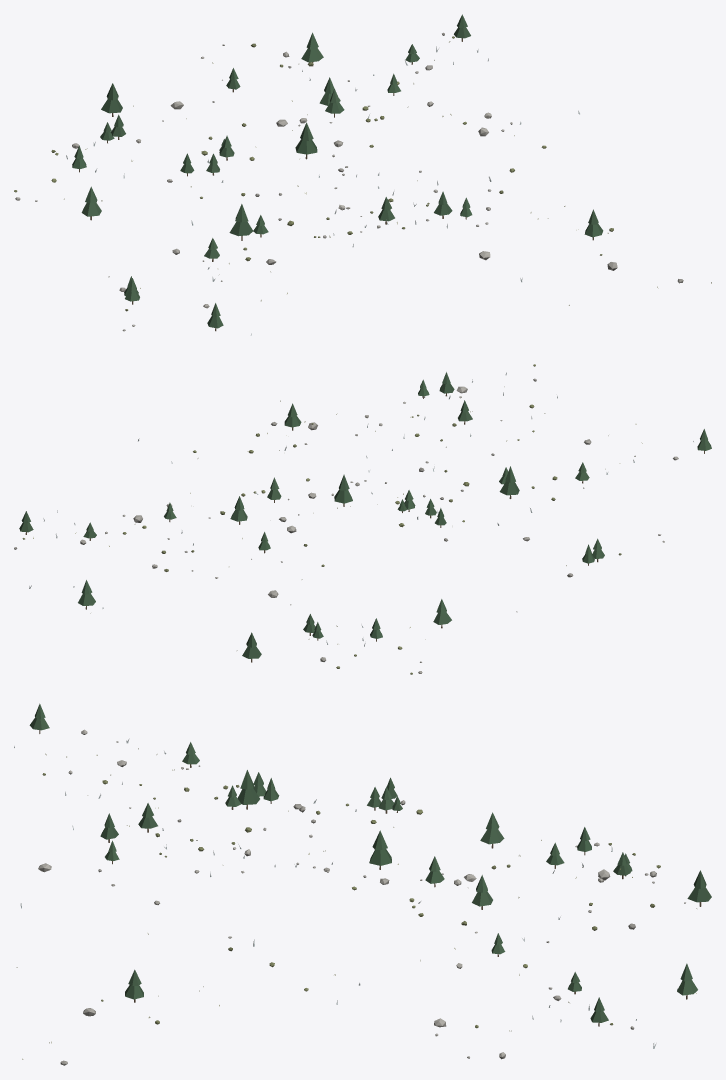
File: coast_land_scatter_c09_23_lod1.glb
The picture shows the model from 3 angles, top to bottom: view 1: azimuth 30°, elevation 25°; view 2: azimuth 150°, elevation 25°; view 3: azimuth 270°, elevation 25°; orthographic projection. The views are drawn at different scales.
Parts seen in each view (by area): view 1: coast_land_scatter_c09_23_lod1; view 2: coast_land_scatter_c09_23_lod1; view 3: coast_land_scatter_c09_23_lod1.
Part boxes in pixels (x1,y1,x2,y2): coast_land_scatter_c09_23_lod1: (14, 14, 711, 335); coast_land_scatter_c09_23_lod1: (14, 364, 711, 674); coast_land_scatter_c09_23_lod1: (14, 703, 711, 1065).
Bounding box in the file's own units: 247 × 57.87 × 258.
